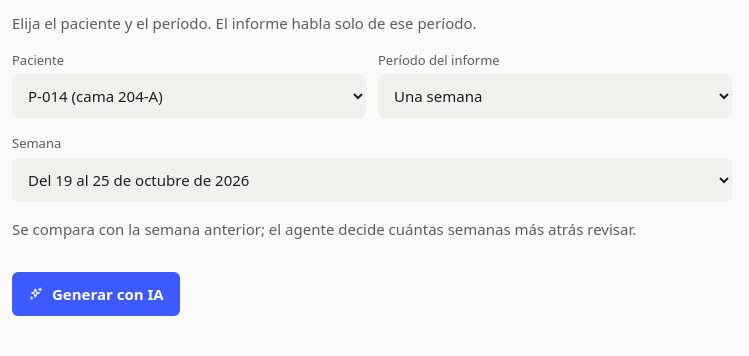
ReportGenerateComponent (vInfGenerar del mockup) › el periodo «Un mes» ofrece las ventanas de cuatro semanas del servidor y marca la que no se puede generar
The width and height of the screenshot is (749, 356).
Select "Un mes (cuatro semanas)" in the dropdown with id "ig-tipo". click: (555, 96)
box: [378,74,732,118]
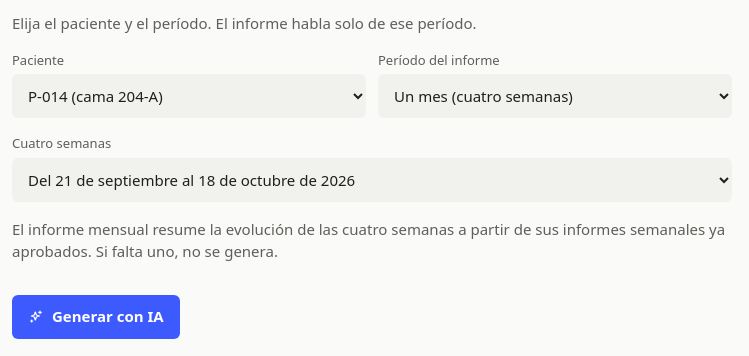
Result: the element with id "ig-semana" is gone
Result: the text "El informe mensual resume la evolución de las cuatro semanas" is shown at [12,218,725,261]
Result: the dropdown with id "ig-m" shows "Del 21 de septiembre al 18 de octubre de 2026" at [12,158,732,202]
